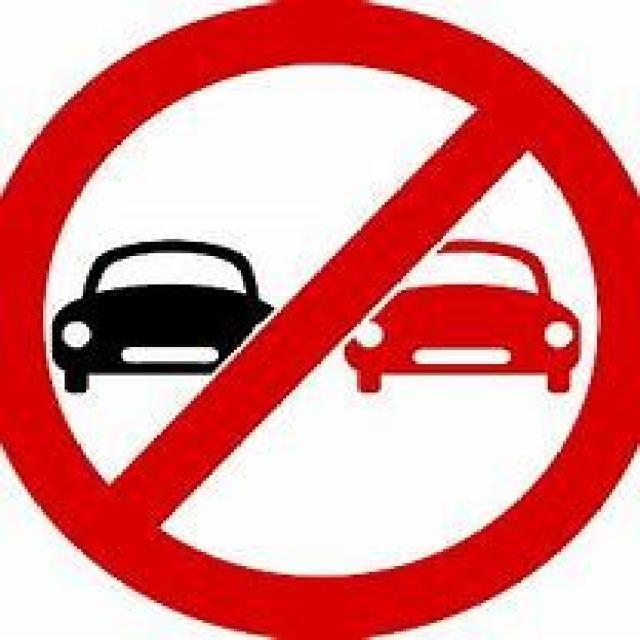overtaking prohibited: (20, 11, 616, 611)
